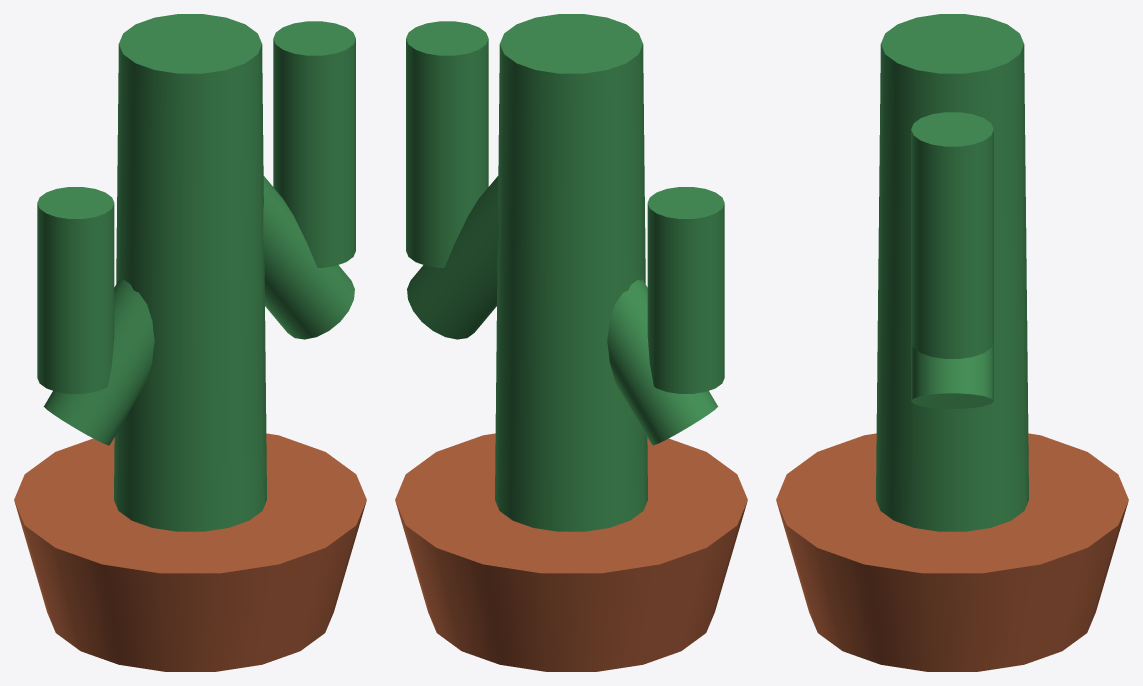
The model's file is cactus.glb.
3 views of the same model, side by side, from view 1: azimuth 30°, elevation 25°; view 2: azimuth 150°, elevation 25°; view 3: azimuth 270°, elevation 25° (orthographic).
Visible parts, largest first — view 1: cactus; view 2: cactus; view 3: cactus.
Part boxes in pixels (bbox=[...]): cactus: bbox=[14, 14, 366, 671]; cactus: bbox=[395, 14, 747, 671]; cactus: bbox=[776, 14, 1128, 671].
Bounding box in the file's own units: 0.5192 × 0.91 × 0.512.
